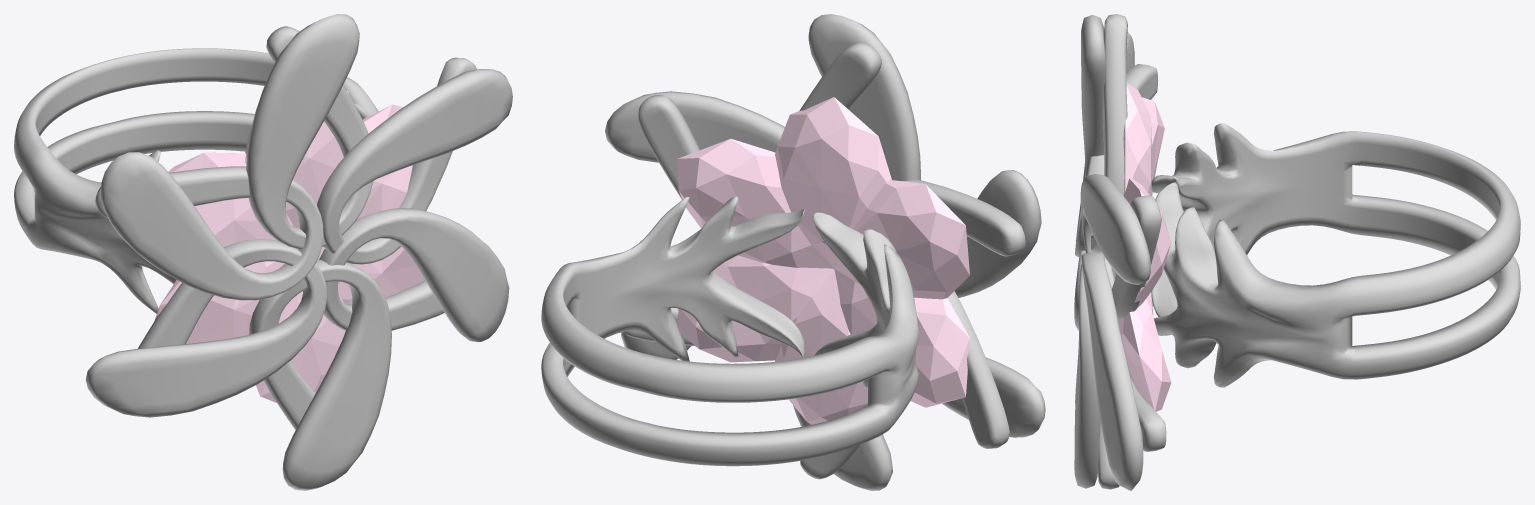
File: FlowerRingAfter.glb
3 views of the same model, side by side, from view 1: azimuth 30°, elevation 25°; view 2: azimuth 150°, elevation 25°; view 3: azimuth 270°, elevation 25° (orthographic).
Parts seen in each view (by area): view 1: Metal_flower, Metal_g, Gem; view 2: Metal_g, Gem, Metal_flower; view 3: Metal_g, Metal_flower, Gem.
Boxes of the visible parts, <box> form: Metal_flower: <box>85,14,512,490</box>; Metal_g: <box>14,48,378,313</box>; Gem: <box>154,91,424,402</box>; Metal_g: <box>541,196,919,466</box>; Gem: <box>677,97,969,424</box>; Metal_flower: <box>605,14,1045,490</box>; Metal_g: <box>1151,123,1520,387</box>; Metal_flower: <box>1074,14,1166,490</box>; Gem: <box>1116,83,1171,411</box>.
Size of the model in its own units: 2.16 by 2.24 by 1.91.
